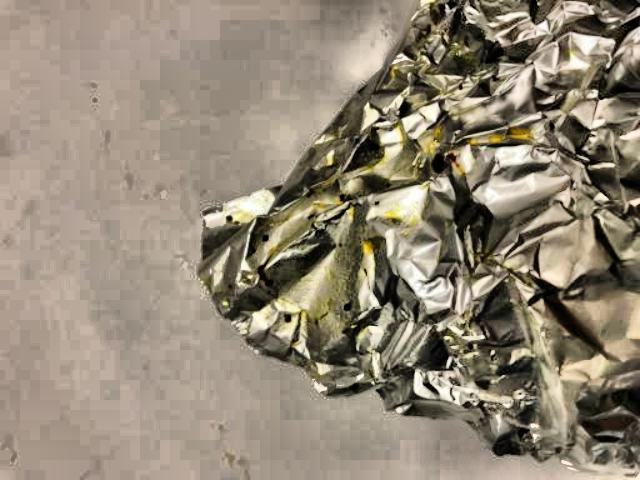Almennt: (172, 0, 640, 480)
